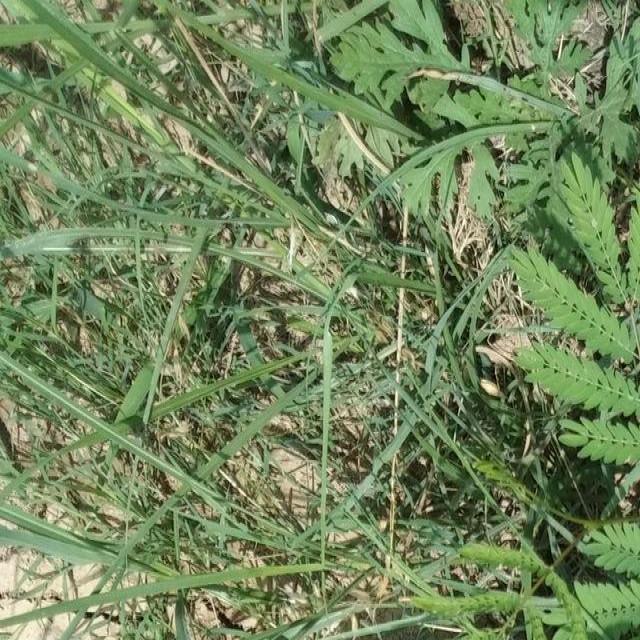weed: (15, 365, 322, 640), (45, 51, 312, 307), (335, 9, 640, 188), (526, 188, 640, 633)
